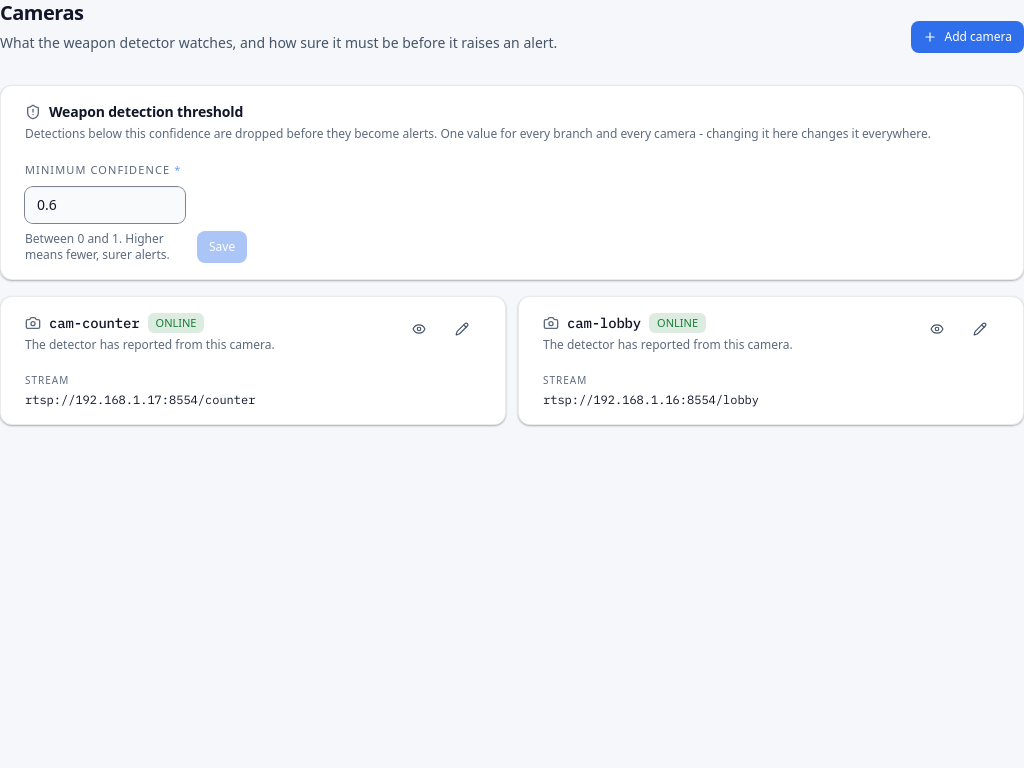
Test case: Cameras › explains a name clash with a camera at another branch
Expected: the heading "cam-lobby" is shown, [567, 313, 641, 333]
Click the button "Add camera" at (967, 37), box [910, 21, 1023, 53]
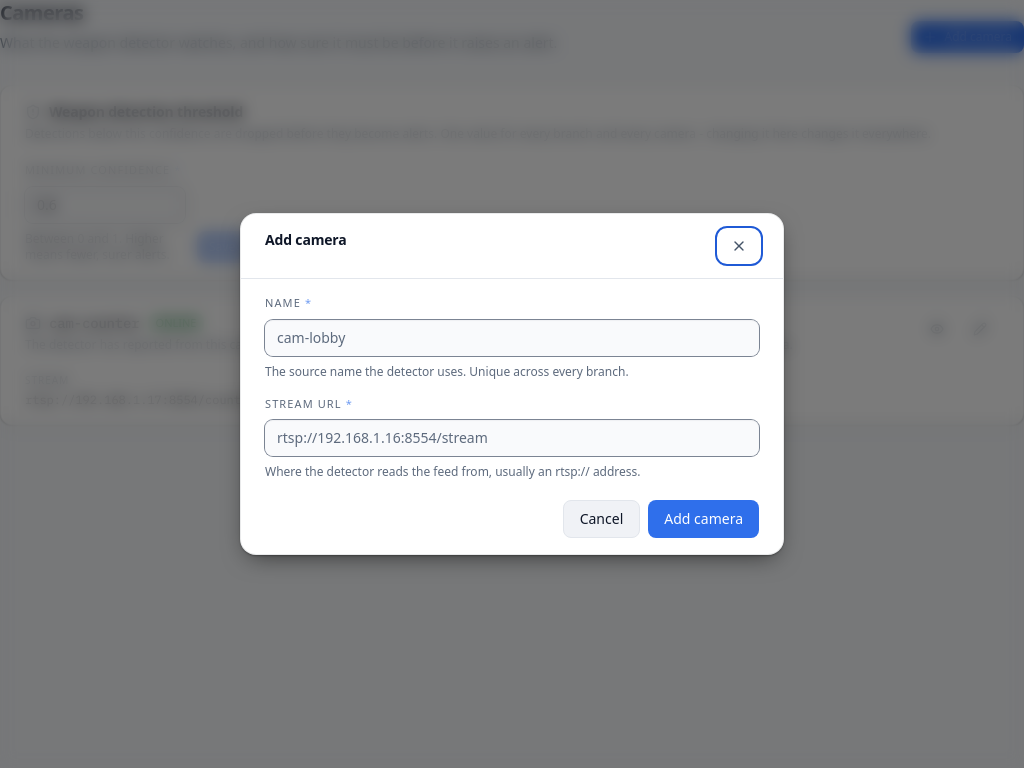
Type "cam-store" into the field labelled "Name*" at (512, 338), box [265, 320, 759, 356]
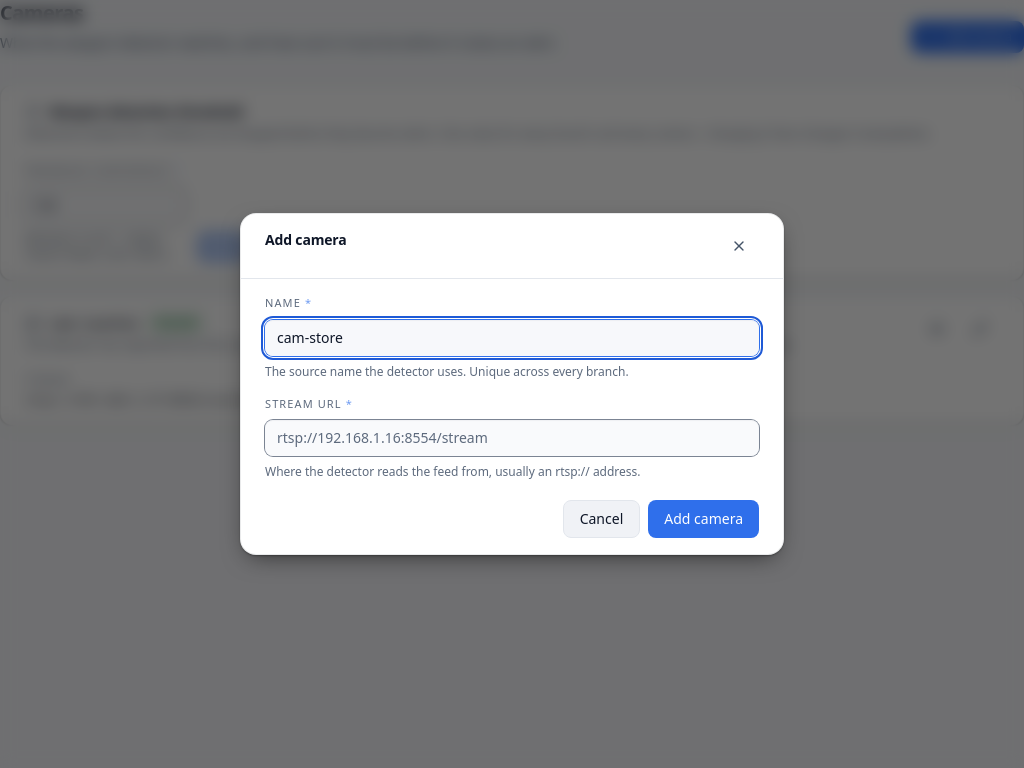
Type "rtsp://x" into the field labelled "Stream URL*" at (512, 438), box [265, 420, 759, 456]
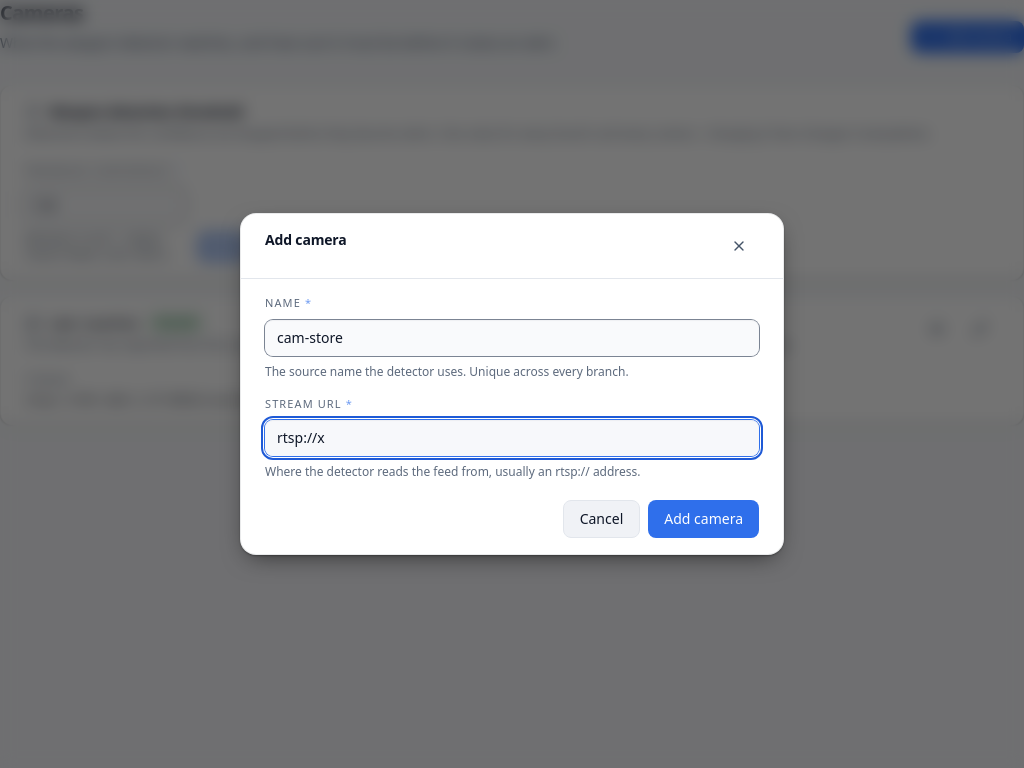
Click the button "Add camera" at (704, 519), box [648, 500, 759, 538]
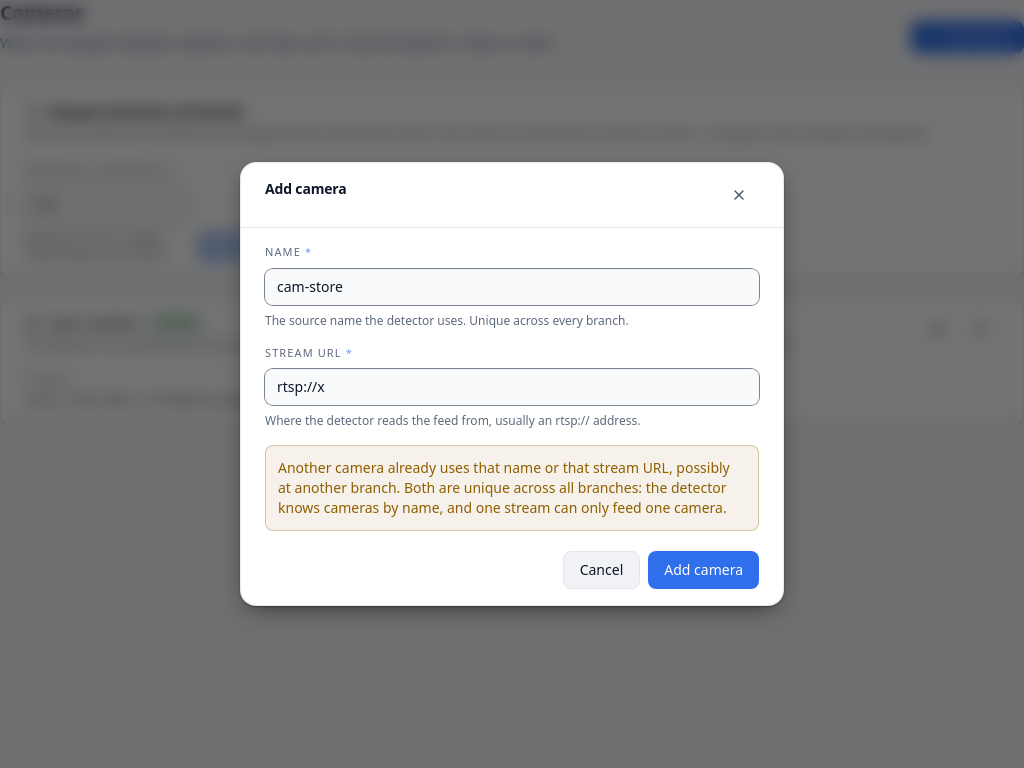
Result: the message shows "already uses that name or that stream URL, possibly at another branch" at [278, 458, 730, 517]
